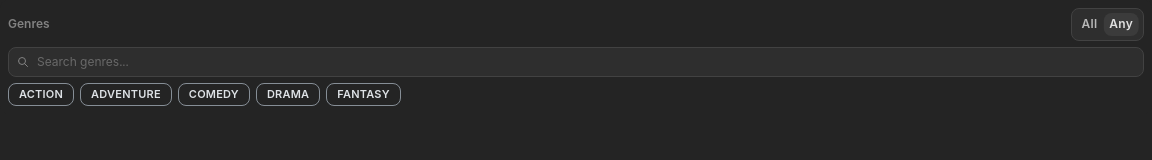
FilterGroup › searchable › filters options by case-insensitive substring match
The width and height of the screenshot is (1152, 160).
Type "AD" into the field labelled "Search genres..." at (576, 62), box [8,47,1144,77]
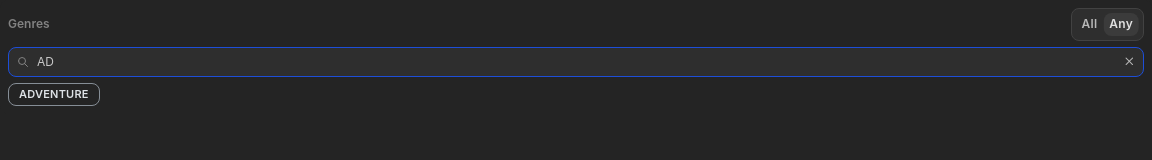
expect the text "Adventure" is shown: met, box [19,89,89,100]
expect the button "Action" is gone: met
expect the button "Comedy" is gone: met
